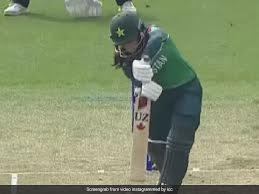batsman: (103, 7, 209, 194)
